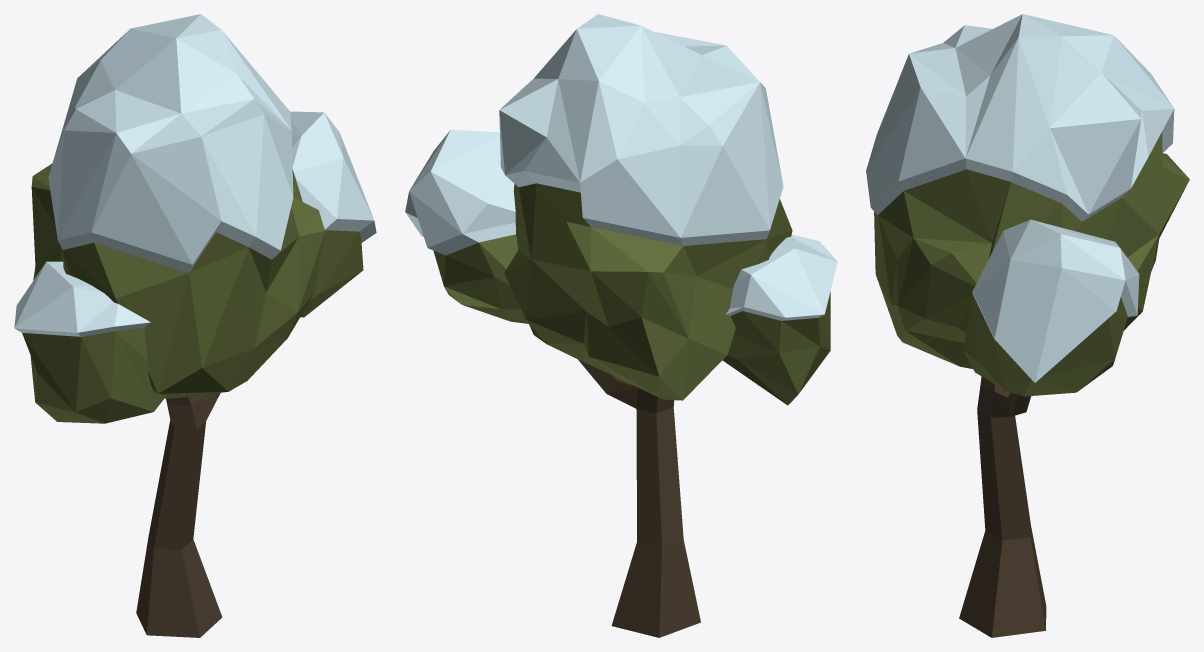
The model's file is SM_Env_Tree_04_Snow.gltf.
The picture shows the model from 3 angles, left to right: view 1: azimuth 30°, elevation 25°; view 2: azimuth 150°, elevation 25°; view 3: azimuth 270°, elevation 25°; orthographic projection. The views are drawn at different scales.
Visible parts, largest first — view 1: SM_Env_Tree_04_Snow; view 2: SM_Env_Tree_04_Snow; view 3: SM_Env_Tree_04_Snow.
Part boxes in pixels (box(x1,y1,x2,y2)): SM_Env_Tree_04_Snow: box(14, 14, 376, 637); SM_Env_Tree_04_Snow: box(405, 14, 837, 637); SM_Env_Tree_04_Snow: box(866, 14, 1189, 637).
Bounding box in the file's own units: 3.95 × 5.78 × 2.79.
1 material, 1 textured.
